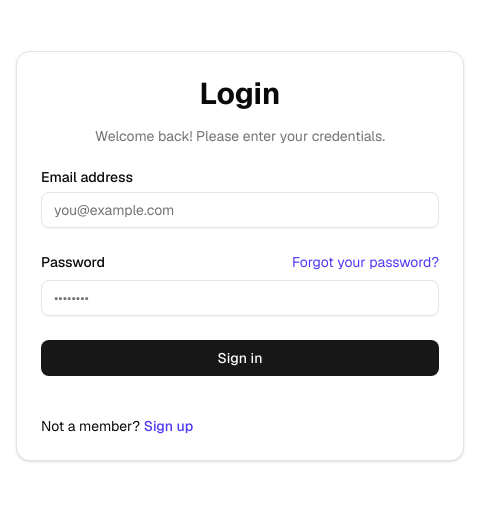
Test: Login Page Integration Flow › displays error message on failed API login
This screenshot has width=481, height=514.
Step 1. Type "wrong@example.com" into the field labelled "Email address" → (240, 210), box top-left (41, 192), bottom-right (439, 228)
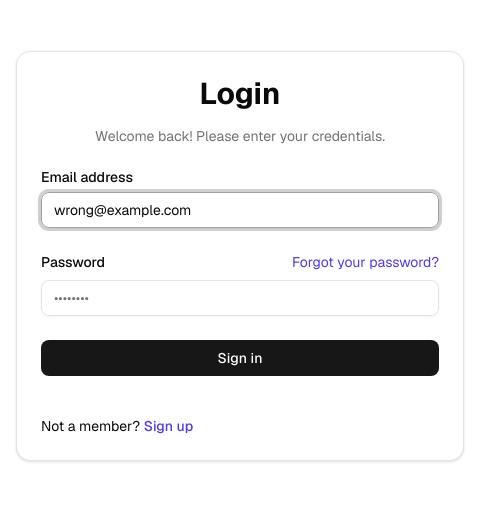
Step 2. Type "wrongpassword" into the password field labelled "Password" → (240, 298), box top-left (41, 280), bottom-right (439, 316)
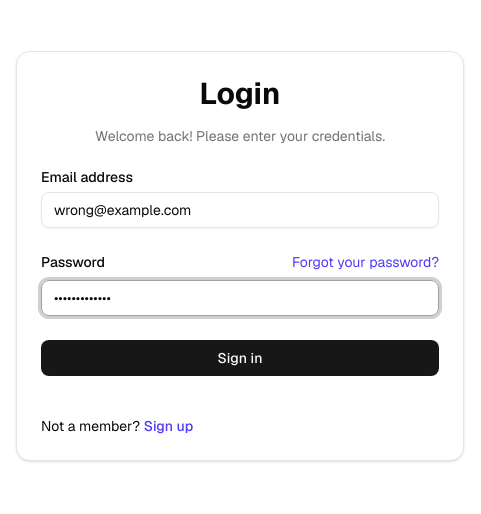
Step 3. Click the button "Sign in" → (240, 358), box top-left (41, 340), bottom-right (439, 376)
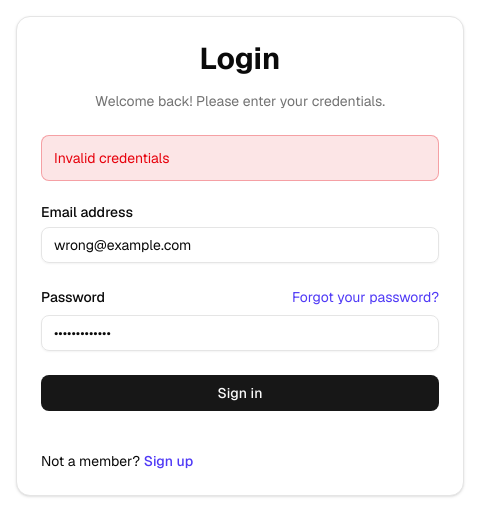
Result: the text "Invalid credentials" is shown at top-left (41, 135), bottom-right (439, 181)
